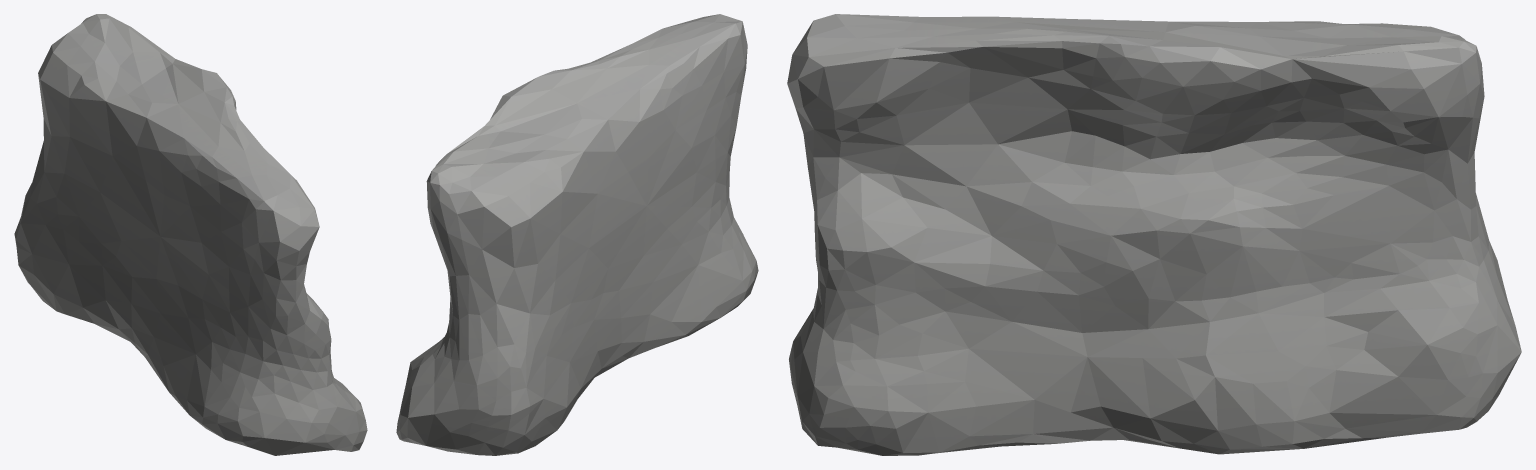
File: Cavern_Wall_Med-02.fbx
3 renders of one model, left to right at view 1: azimuth 30°, elevation 25°; view 2: azimuth 150°, elevation 25°; view 3: azimuth 270°, elevation 25°, orthographic. The views are drawn at different scales.
Visible parts, largest first — view 1: Cavern_Wall_Med-02; view 2: Cavern_Wall_Med-02; view 3: Cavern_Wall_Med-02.
Part boxes in pixels (x1,y1,x2,y2): Cavern_Wall_Med-02: [14, 14, 367, 455]; Cavern_Wall_Med-02: [396, 14, 758, 455]; Cavern_Wall_Med-02: [787, 14, 1521, 455].
Size of the model in its own units: 719 by 1232 by 2083.
Materials: 1 (1 with a texture image).
